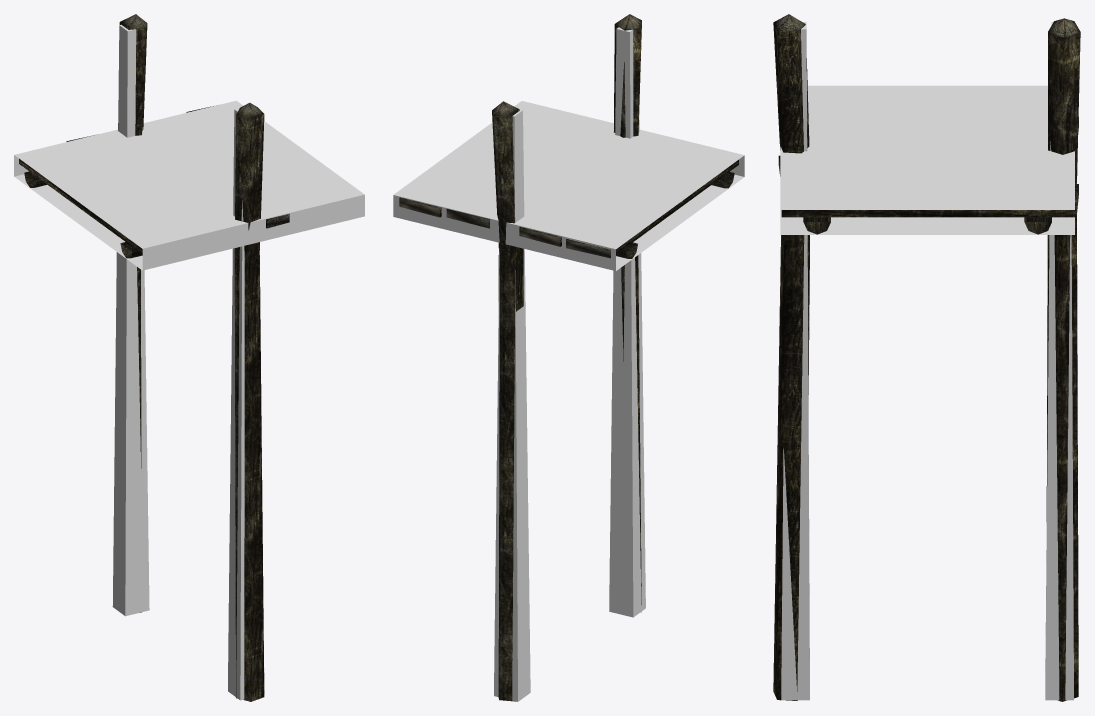
The model's file is ex_common_plat_cent.dae.
The picture shows the model from 3 angles, left to right: view 1: azimuth 30°, elevation 25°; view 2: azimuth 150°, elevation 25°; view 3: azimuth 270°, elevation 25°; orthographic projection. The views are drawn at different scales.
Visible parts, largest first — view 1: nifid_31-matrix, nifid_16-matrix, nifid_29-matrix, nifid_27-matrix, nifid_11-matrix; view 2: nifid_31-matrix, nifid_16-matrix, nifid_27-matrix, nifid_29-matrix, nifid_21-matrix, nifid_11-matrix; view 3: nifid_31-matrix, nifid_16-matrix, nifid_29-matrix, nifid_27-matrix, nifid_11-matrix, nifid_6-matrix.
Part boxes in pixels (left/top/right/bottom): nifid_31-matrix: left=14, top=100, right=364, bottom=270; nifid_16-matrix: left=19, top=22, right=282, bottom=701; nifid_29-matrix: left=112, top=24, right=149, bottom=616; nifid_27-matrix: left=228, top=108, right=264, bottom=700; nifid_11-matrix: left=120, top=14, right=263, bottom=118; nifid_31-matrix: left=393, top=101, right=744, bottom=270; nifid_16-matrix: left=399, top=24, right=738, bottom=701; nifid_27-matrix: left=609, top=27, right=645, bottom=617; nifid_29-matrix: left=494, top=109, right=530, bottom=701; nifid_21-matrix: left=399, top=198, right=610, bottom=258; nifid_11-matrix: left=492, top=14, right=641, bottom=116; nifid_31-matrix: left=780, top=85, right=1074, bottom=234; nifid_16-matrix: left=773, top=23, right=1080, bottom=701; nifid_29-matrix: left=1045, top=22, right=1073, bottom=700; nifid_27-matrix: left=781, top=22, right=809, bottom=700; nifid_11-matrix: left=773, top=14, right=1080, bottom=38; nifid_6-matrix: left=803, top=222, right=1051, bottom=234.
Bounding box in the file's own units: 256 × 267 × 653.
Materials: 5 (5 with a texture image).
